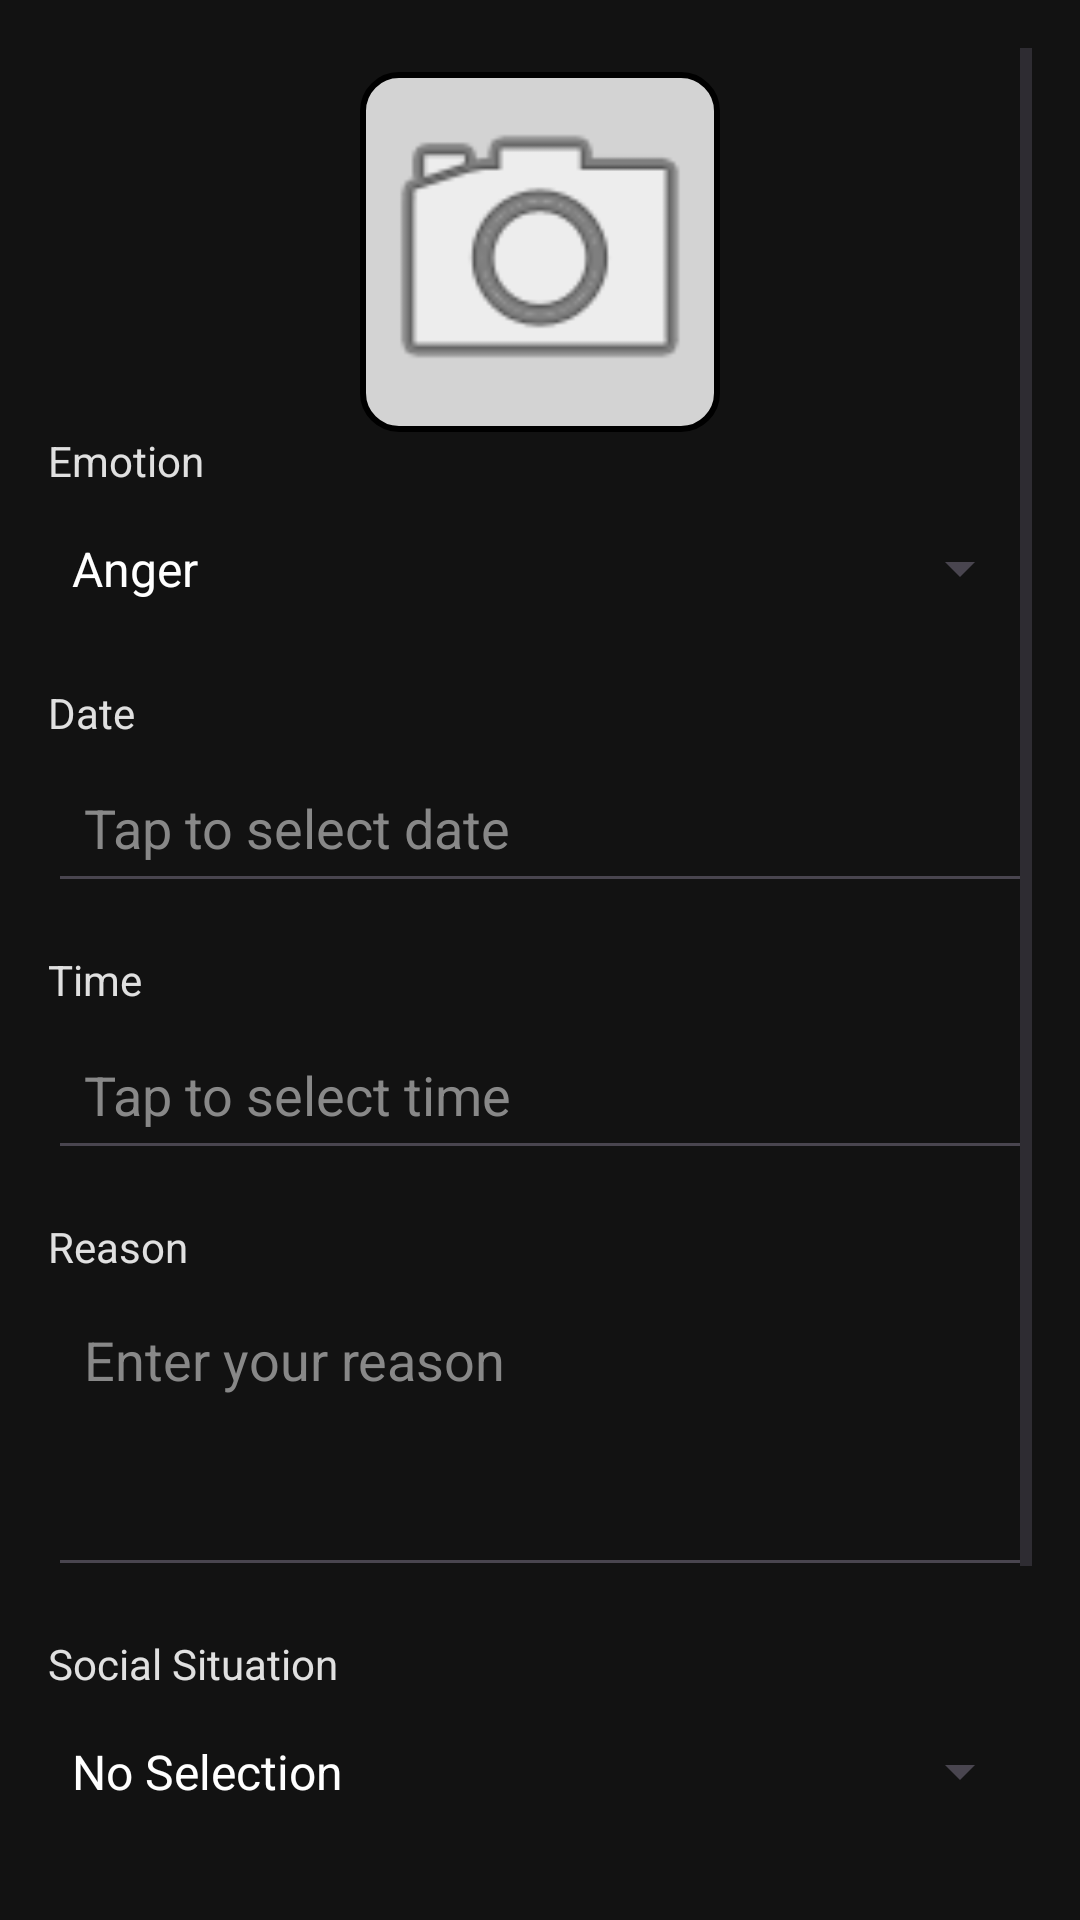

Screen size 1080 x 1920. Icon name, then its center in pixels as (x=x, y=y):
Upload Image: (x=540, y=252)
